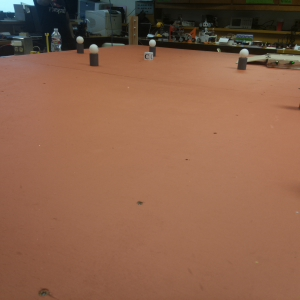obstacle: (238, 49, 248, 72), (89, 45, 97, 66), (148, 39, 157, 56), (76, 35, 84, 54)
side: (268, 59, 300, 67)
